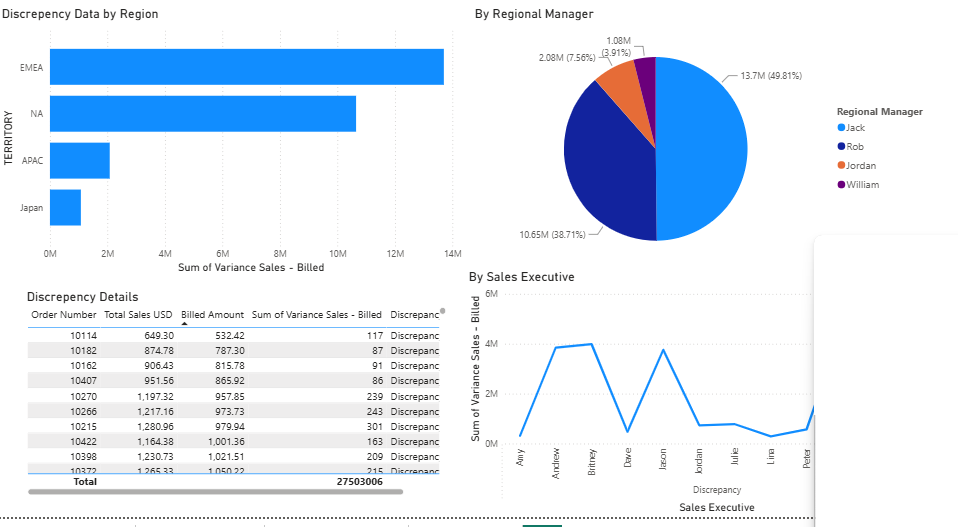

What the dashboard file says about the page in this screenshot:
{"tool":"powerbi","page":{"name":"Reconcilation","canvas":[1280,720],"ordinal":3},"visuals":[{"type":"tableEx","title":"Discrepency Details","fields":{"Values":["Sales_Data.Order Number","Sales_Data.Total Sales USD","Bill Details.Billed Amount","Bill Details.Variance Sales - Billed","Bill Details.Discrepancy Status"]},"box":[33,417,567.1,279.4],"z":0},{"type":"pieChart","title":"By Regional Manager","fields":{"Category":["Regional Manager.Regional Manager","Bill Details.Discrepancy Status"],"Y":["Sum(Bill Details.Variance Sales - Billed)"]},"box":[629,41.3,620.7,360.6],"z":1000},{"type":"clusteredBarChart","title":"Discrepency Data by Region","fields":{"Category":["Regional Manager.TERRITORY","Bill Details.Discrepancy Status"],"Y":["Sum(Bill Details.Variance Sales - Billed)"]},"box":[0,41.3,620.7,360.6],"z":2000},{"type":"lineChart","title":"By Sales Executive","fields":{"Category":["Bill Details.Discrepancy Status","Bill Details.Sales Executive"],"Y":["Sum(Bill Details.Variance Sales - Billed)"]},"box":[620.7,390.9,620.7,328.9],"z":2001}]}

Visuals, with their boxes in screenshot pixels (x1, y1, x2, y2), scaled from the page's 1280x720 canvas onto the 958x527 screenshot:
"Discrepency Details" tableEx: {"x1": 25, "y1": 305, "x2": 449, "y2": 510}
"By Regional Manager" pieChart: {"x1": 471, "y1": 30, "x2": 935, "y2": 294}
"Discrepency Data by Region" clusteredBarChart: {"x1": 0, "y1": 30, "x2": 465, "y2": 294}
"By Sales Executive" lineChart: {"x1": 465, "y1": 286, "x2": 929, "y2": 526}
